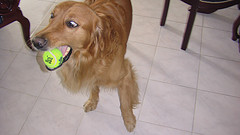tennis ball: (43, 47, 64, 69)
